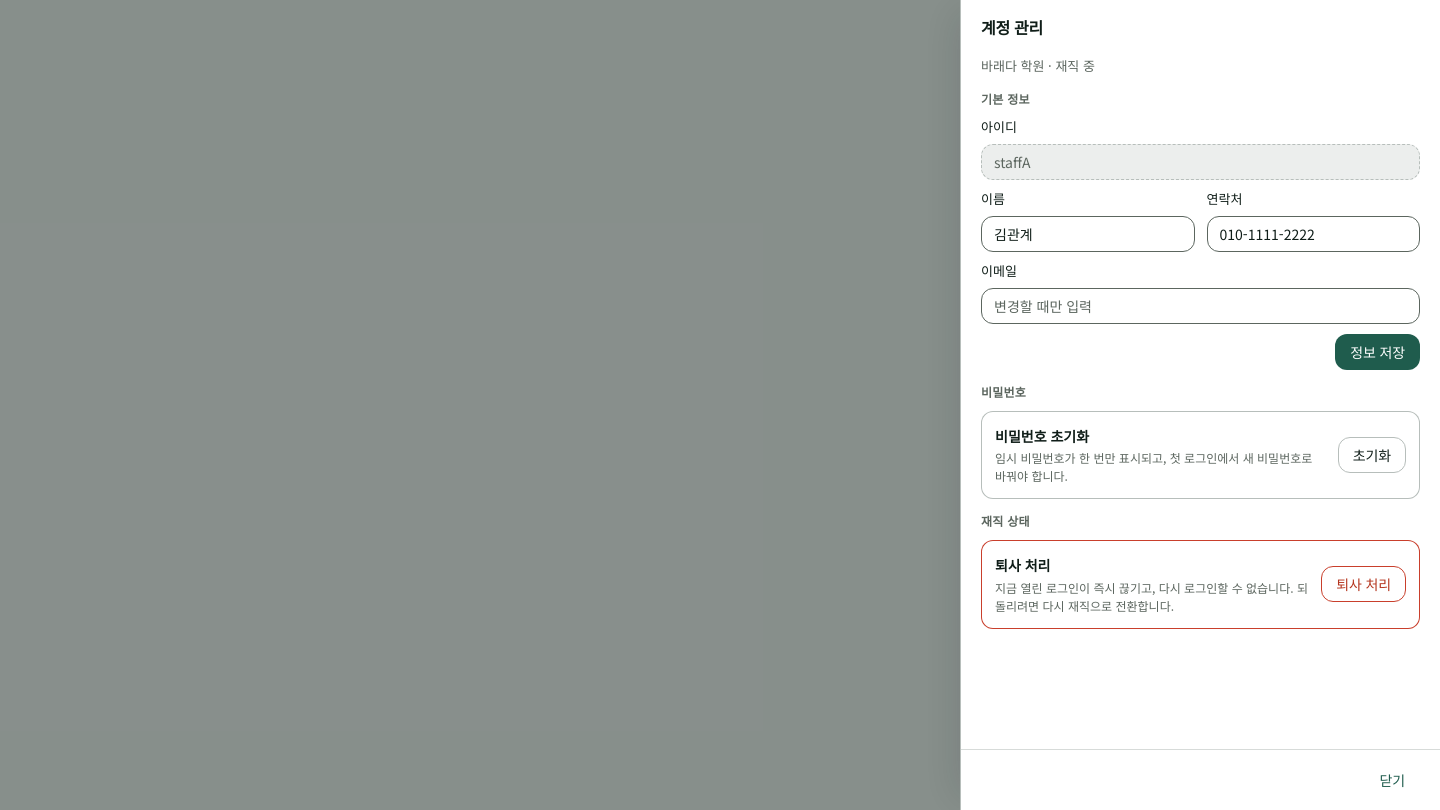
Test: MemberAccountFormDialog — 확인·성공 표시·빈 값 › 퇴사 확인 창은 자리가 비게 된다는 것과 승인 대기 가입 요청 건수를 알린다
The image size is (1440, 810).
What coordinates should you click on to do the following:
click the button "퇴사 처리"
I would click on:
 (1364, 584)
Its box is [1321,566,1406,602].
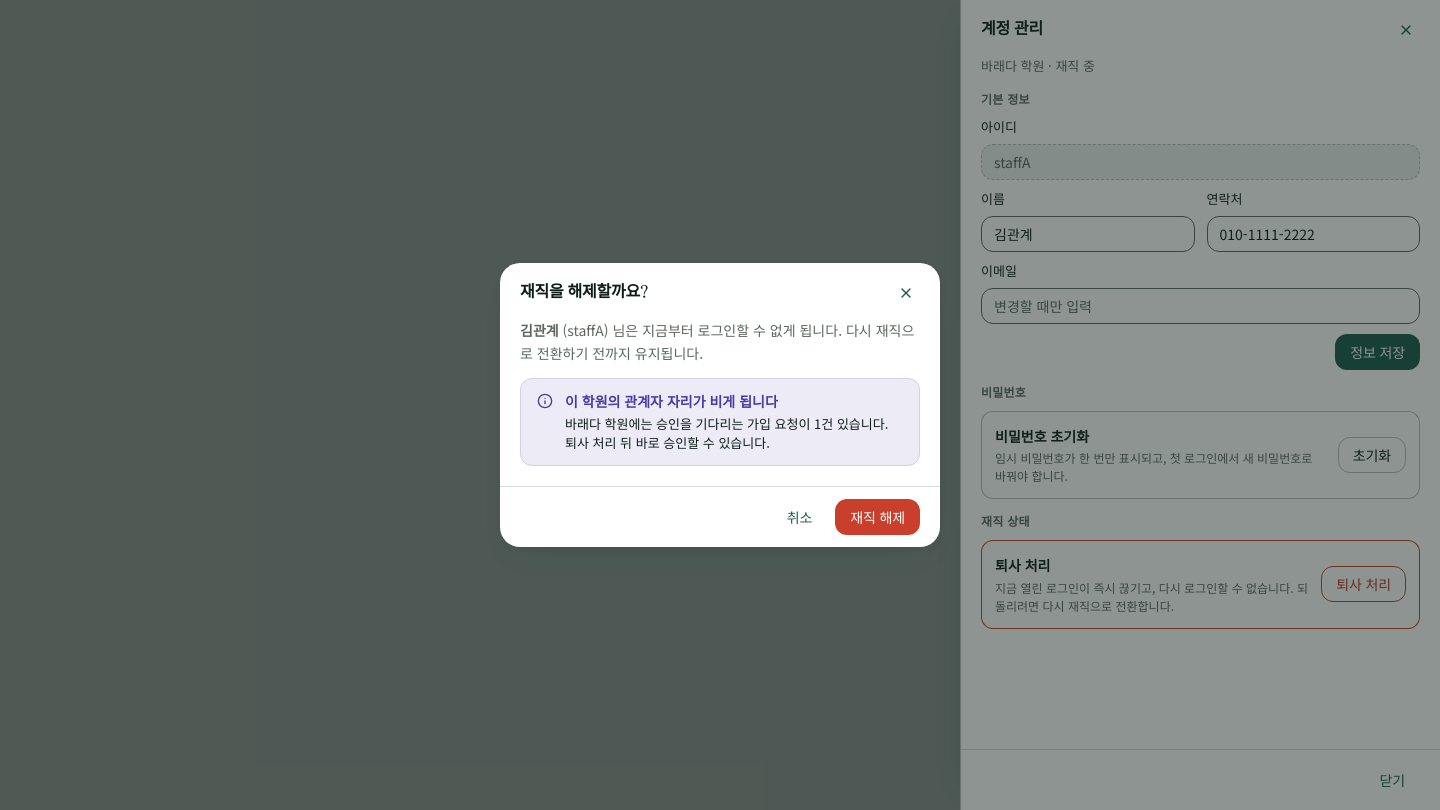
Now the text "이 학원의 관계자 자리가 비게 됩니다" is shown, box [565,391,778,411]
Now the text "바래다 학원에는 승인을 기다리는 가입 요청이 1건 있습니다. 퇴사 처리 뒤 바로 승인할 수 있습니다." is shown, box [565,414,903,453]
